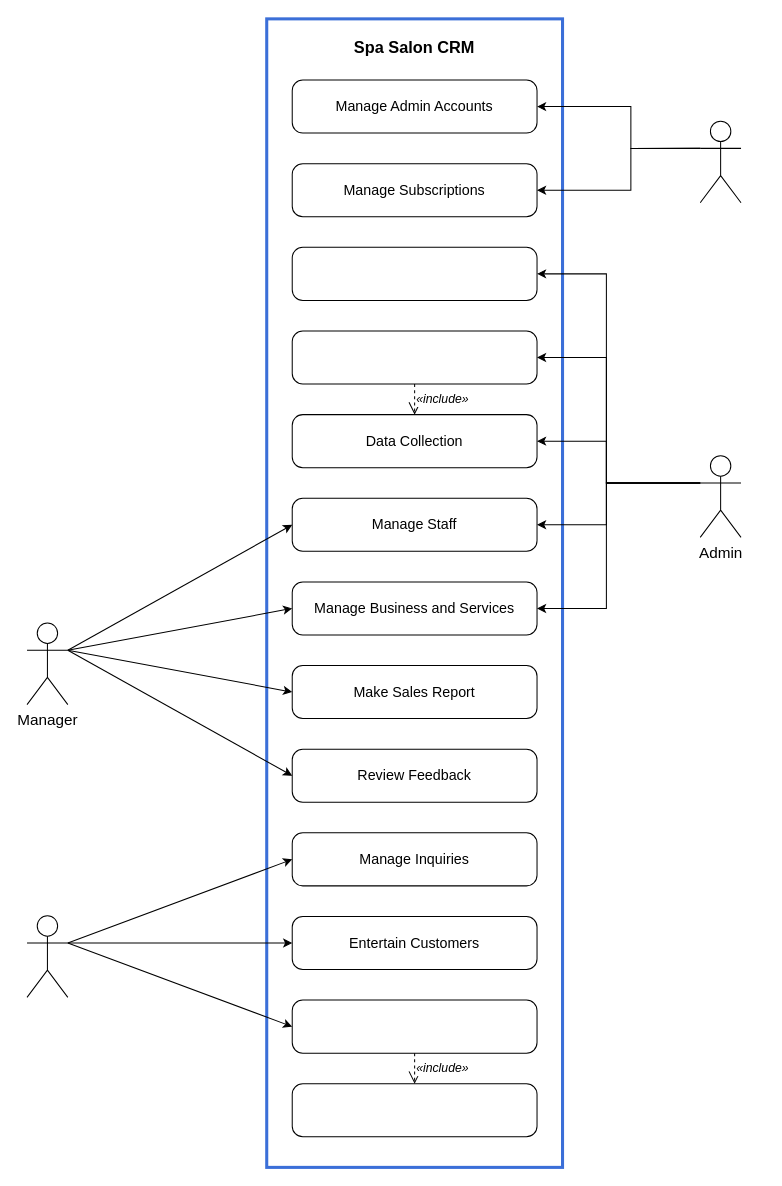
Some shapes in this 782 by 1186 pixel diagram are drawn without their labels. The centre of each missing label's shape, as x and y in pixels:
Generate Receipt: pixel 414 1110
Plan Retention: pixel 414 357
Process Payments: pixel 414 1026
Review Sales Reports: pixel 414 273
Staff: pixel 47 956
Super Admin: pixel 720 161
